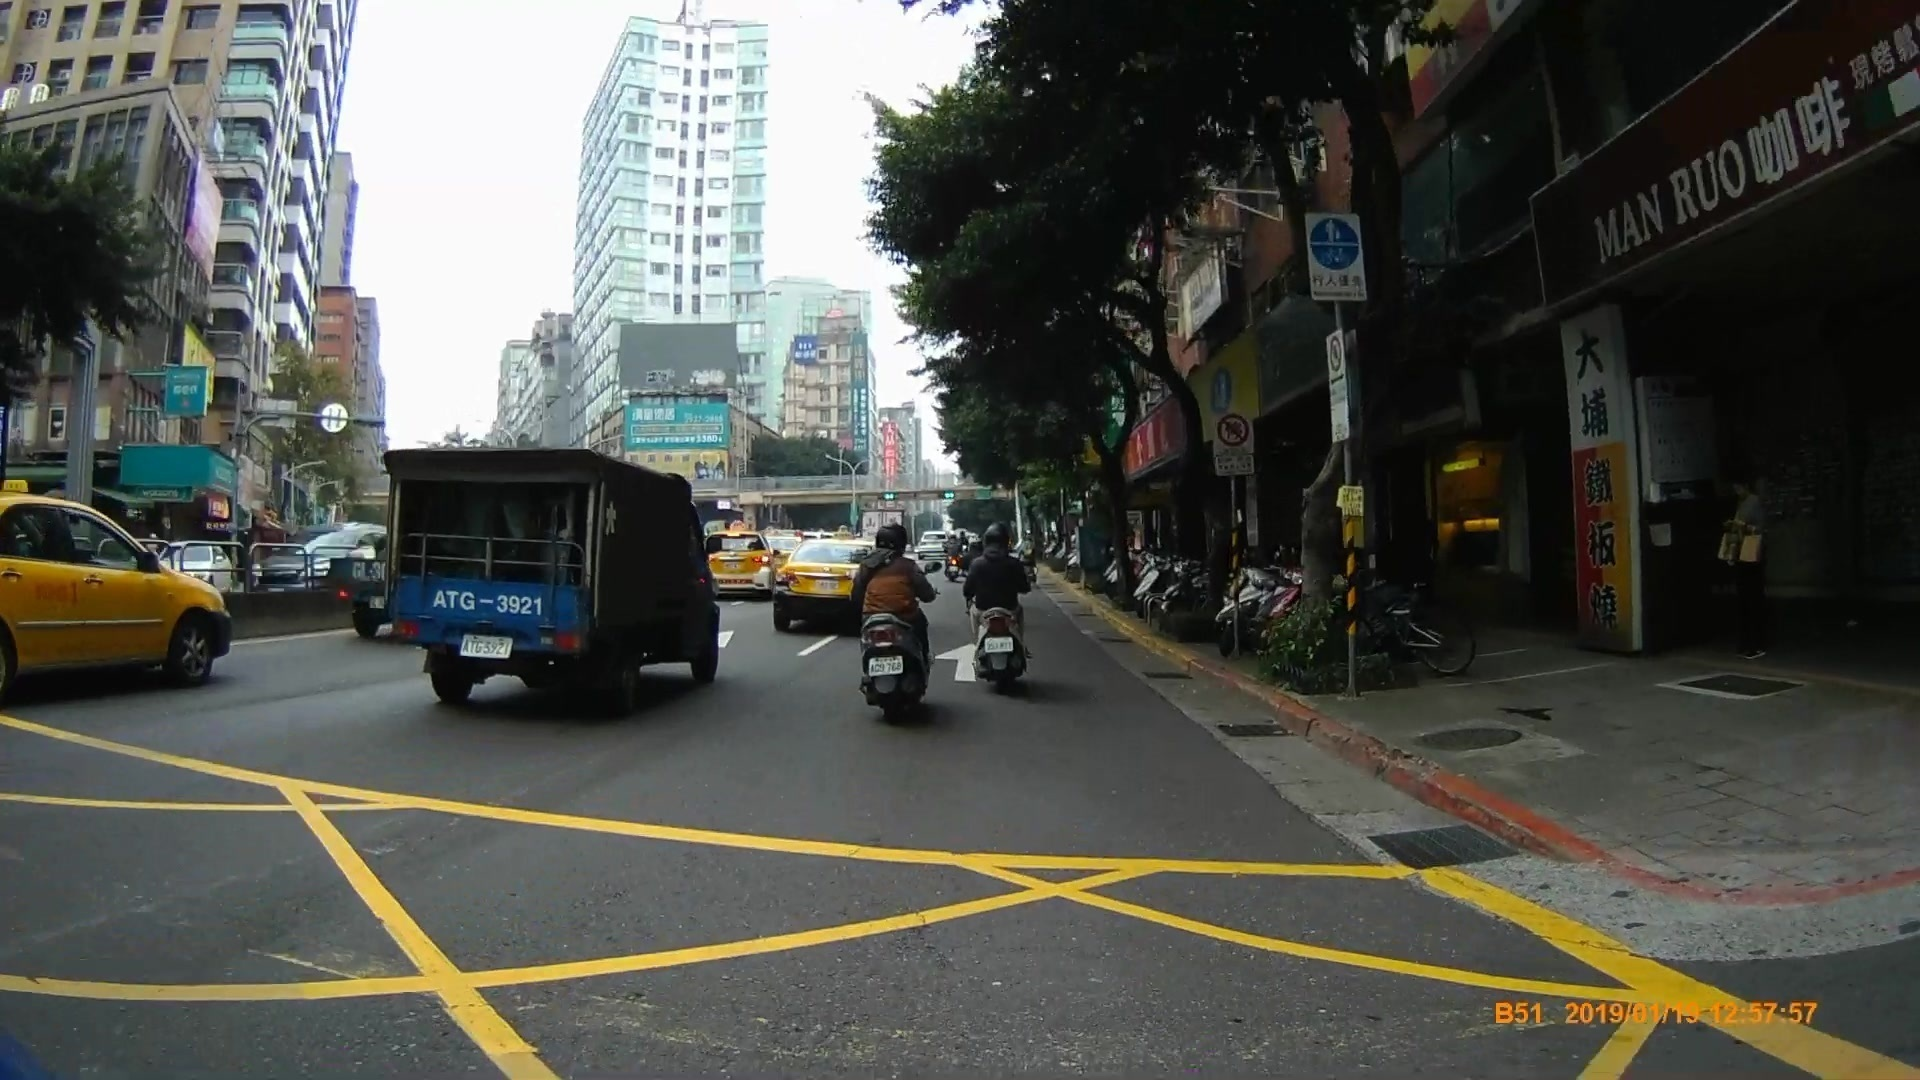License_plate: (455, 627, 518, 662), (865, 653, 906, 676), (978, 635, 1015, 654)
